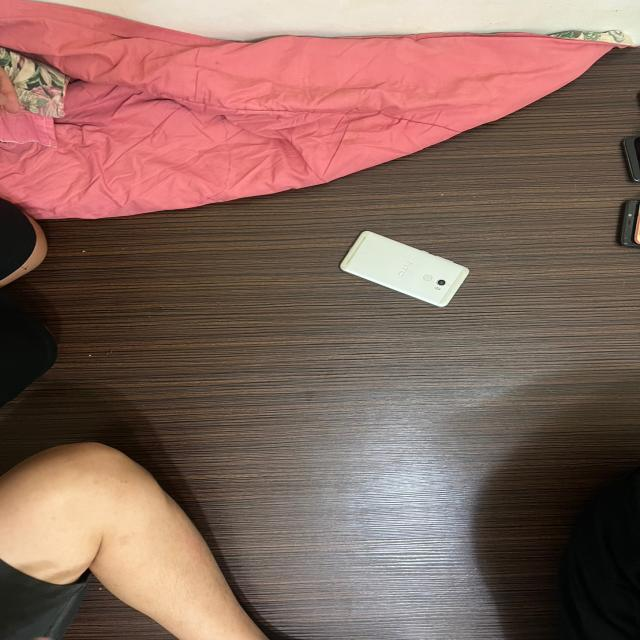Smartphone: (313, 215, 495, 331)
